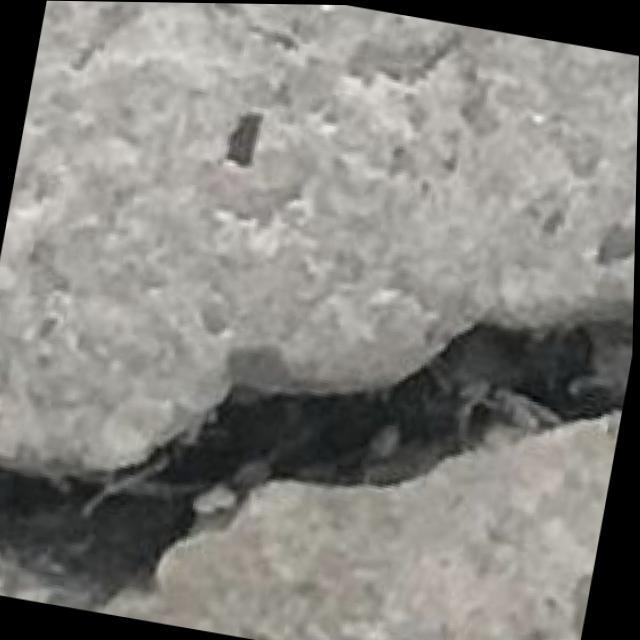Crack: (0, 202, 636, 640)
